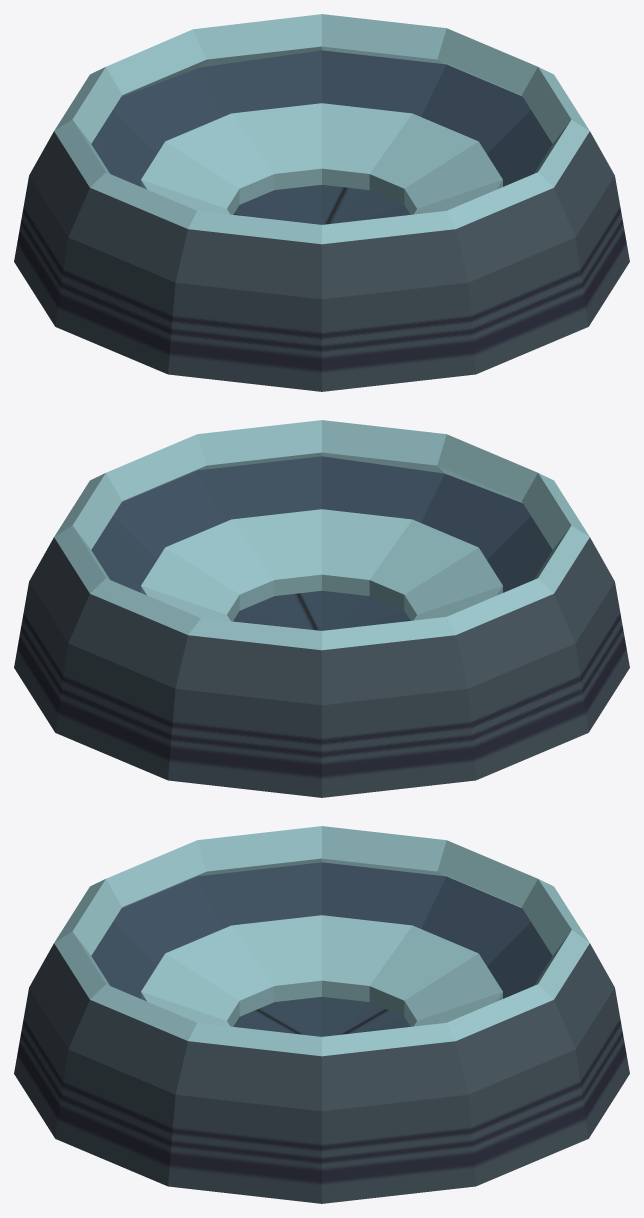
File: Misc bowl.fbx
3 renders of one model, top to bottom at view 1: azimuth 30°, elevation 25°; view 2: azimuth 150°, elevation 25°; view 3: azimuth 270°, elevation 25°, orthographic.
Visible parts, largest first — view 1: Bowl; view 2: Bowl; view 3: Bowl.
Part boxes in pixels (x1=…): Bowl: x1=14, y1=14, x2=629, y2=391; Bowl: x1=14, y1=420, x2=629, y2=797; Bowl: x1=14, y1=826, x2=629, y2=1203.
Size of the model in its own units: 200 by 200 by 50.97.
